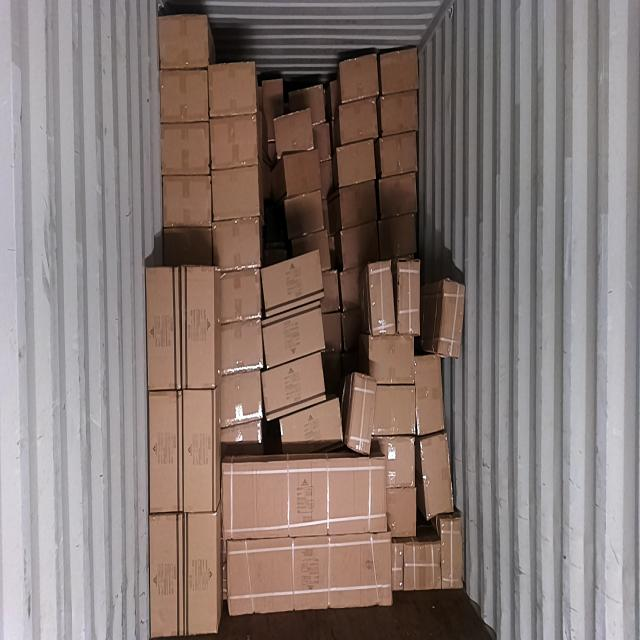carton: (227, 530, 392, 618), (221, 457, 387, 538), (264, 299, 324, 375), (150, 513, 186, 637), (150, 387, 184, 511), (263, 252, 323, 322), (183, 514, 217, 637), (266, 349, 324, 420), (181, 267, 214, 390), (147, 267, 180, 388), (183, 389, 215, 513), (280, 398, 343, 452), (207, 61, 257, 116), (212, 164, 260, 221), (162, 176, 212, 228), (161, 66, 209, 120), (160, 14, 208, 68), (214, 219, 262, 272), (161, 126, 210, 176), (209, 118, 258, 167), (423, 436, 452, 517), (218, 321, 263, 371), (373, 386, 416, 438), (220, 371, 261, 423), (369, 339, 415, 385), (217, 272, 261, 320), (351, 369, 375, 457), (416, 358, 442, 436), (376, 440, 416, 489), (370, 261, 396, 336), (380, 48, 420, 96), (397, 257, 420, 339), (339, 53, 378, 101), (338, 99, 380, 142), (442, 278, 464, 360), (405, 543, 442, 590), (278, 108, 314, 156), (379, 135, 417, 179), (379, 177, 420, 217), (341, 183, 379, 226), (338, 141, 376, 184), (284, 151, 319, 196), (442, 515, 463, 586), (379, 94, 418, 132), (387, 483, 414, 536)
